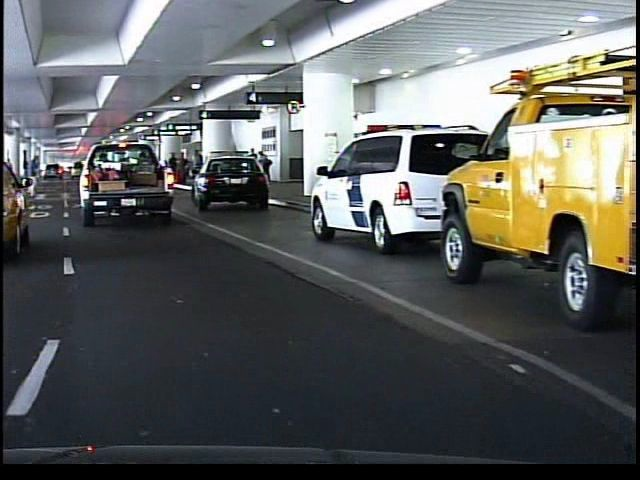person: (20, 151, 40, 203)
